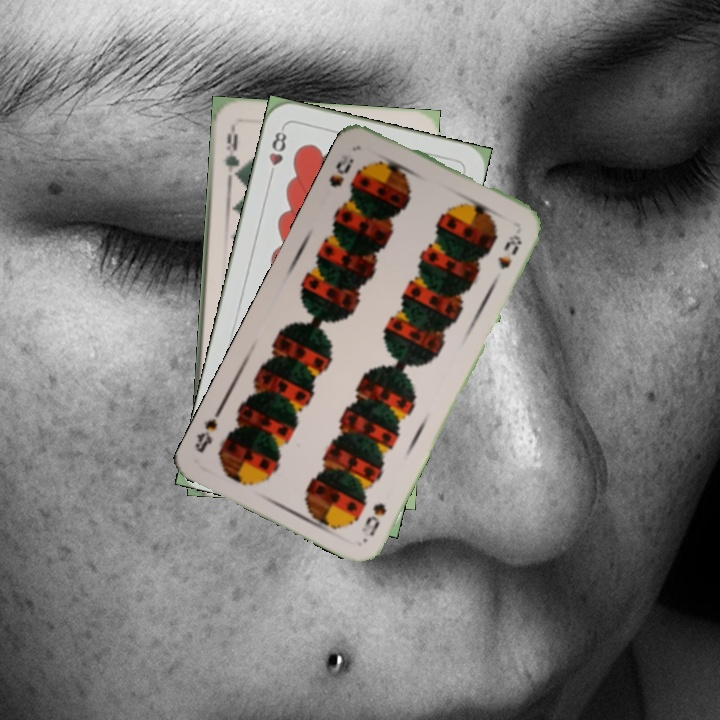G9: (220, 122, 242, 182)
H8: (265, 123, 290, 182)
S8: (357, 498, 389, 539), (325, 150, 356, 190)
